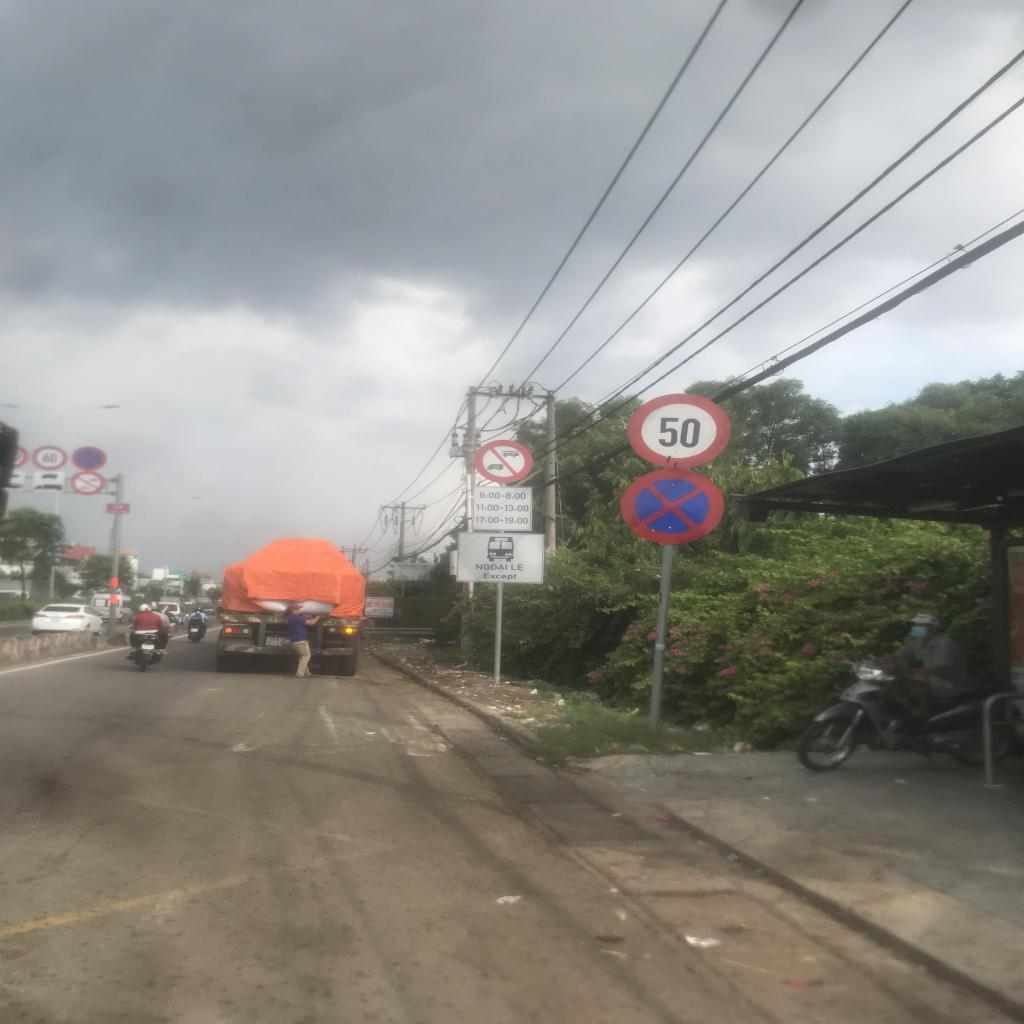cam_dung_xe_va_do_xe: (617, 468, 725, 545), (73, 446, 108, 472)
cam_o_to_tai_va_xe_khach: (474, 439, 533, 484)
cam_xe_2_banh_va_xe_3_banh_co_dong_co: (71, 471, 105, 495)
khac: (458, 534, 545, 584), (472, 487, 533, 531), (32, 482, 64, 493), (34, 471, 66, 482)
toc_do_toi_da_50: (625, 392, 735, 468)
toc_do_toi_da_60: (34, 447, 66, 470)
